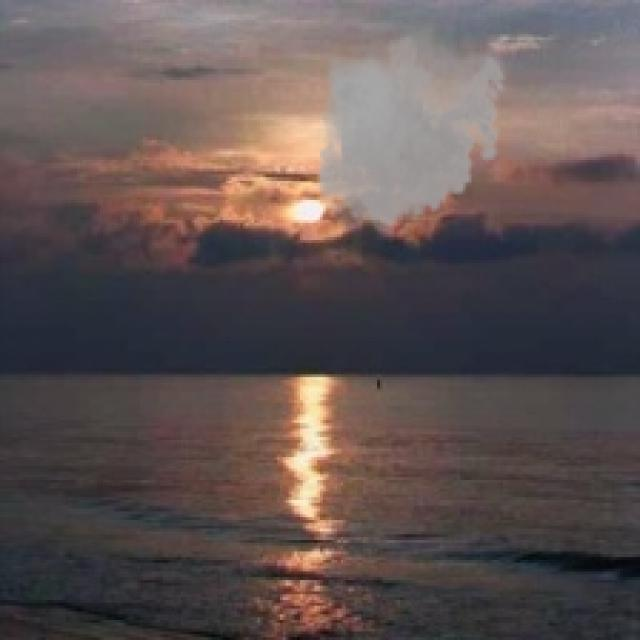smoke: (308, 20, 512, 240)
